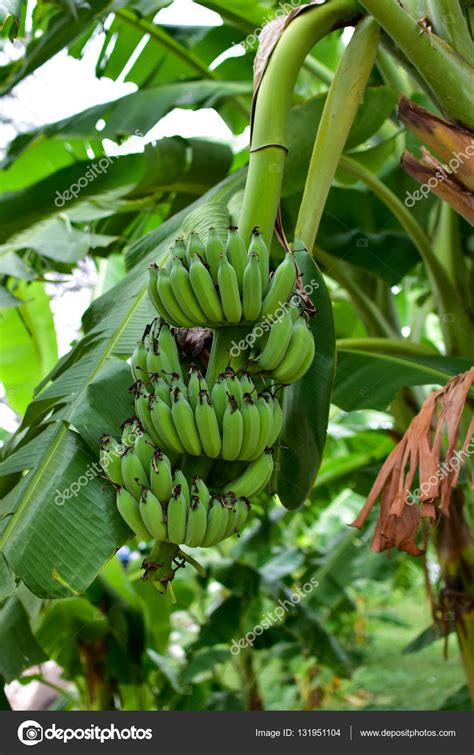banana: (166, 251, 210, 336), (165, 384, 203, 461), (270, 316, 311, 384), (216, 247, 243, 329), (137, 487, 168, 554), (241, 251, 263, 331)
